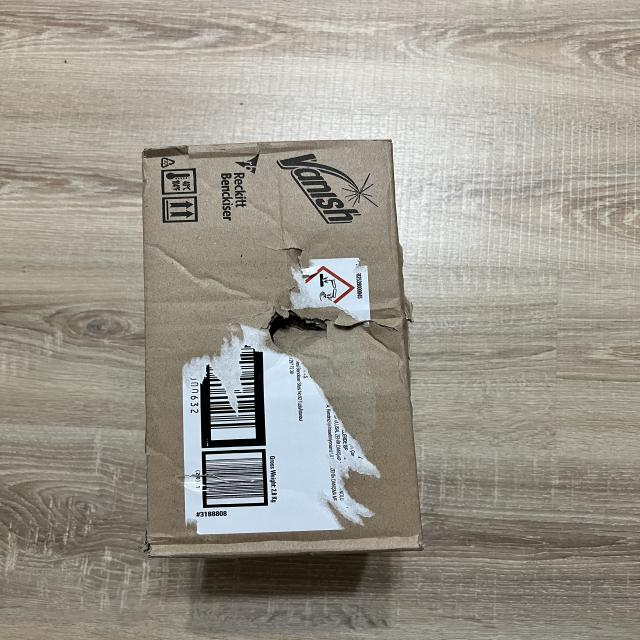damaged: (131, 137, 435, 565), (241, 283, 412, 364), (140, 133, 344, 172)
